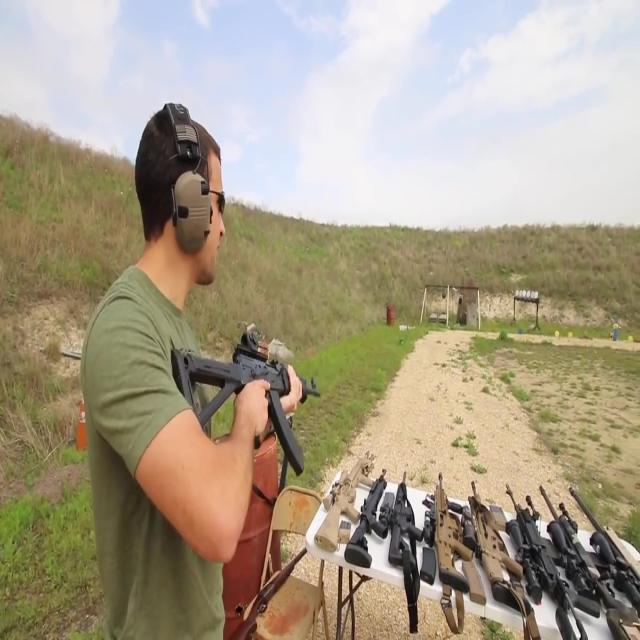Weapon: (302, 432, 640, 640), (145, 301, 337, 489)
